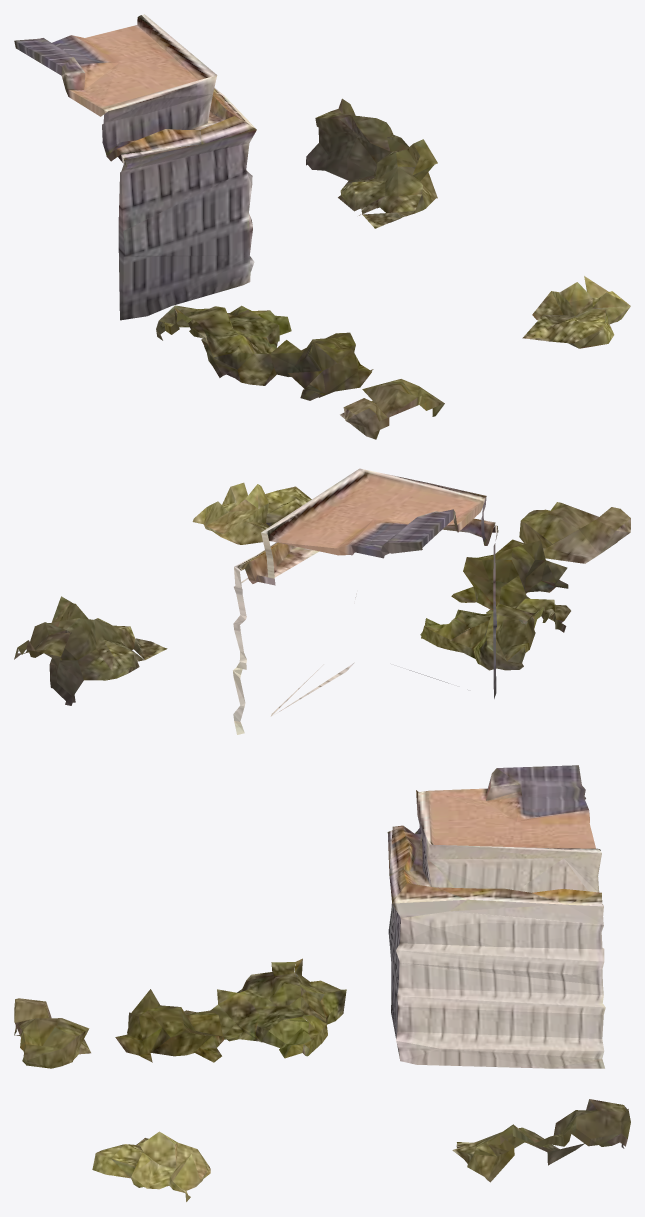
3 views of the same model, one above another, from view 1: azimuth 30°, elevation 25°; view 2: azimuth 150°, elevation 25°; view 3: azimuth 270°, elevation 25° (orthographic). The views are drawn at different scales.
Parts seen in each view (by area): view 1: Mesh_0; view 2: Mesh_0; view 3: Mesh_0.
Boxes of the visible parts, x1=… form: Mesh_0: x1=14, y1=14, x2=630, y2=439; Mesh_0: x1=14, y1=468, x2=630, y2=734; Mesh_0: x1=14, y1=765, x2=630, y2=1201.
Size of the model in its own units: 32.43 by 17.13 by 41.05.
Materials: 1 (1 with a texture image).
